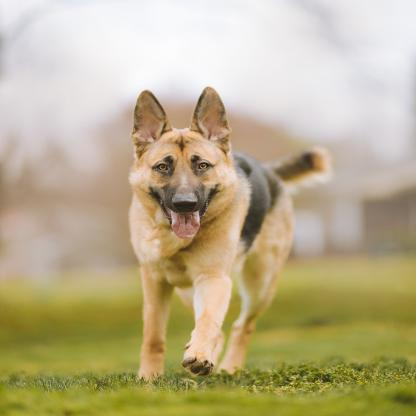dog: (126, 83, 323, 384)
